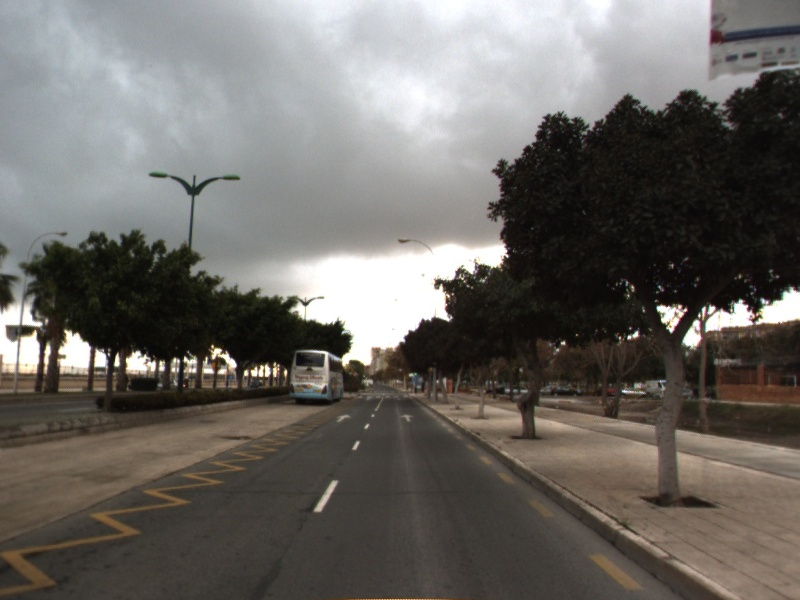STRAIGHT: (397, 412, 417, 424), (334, 412, 354, 424)
